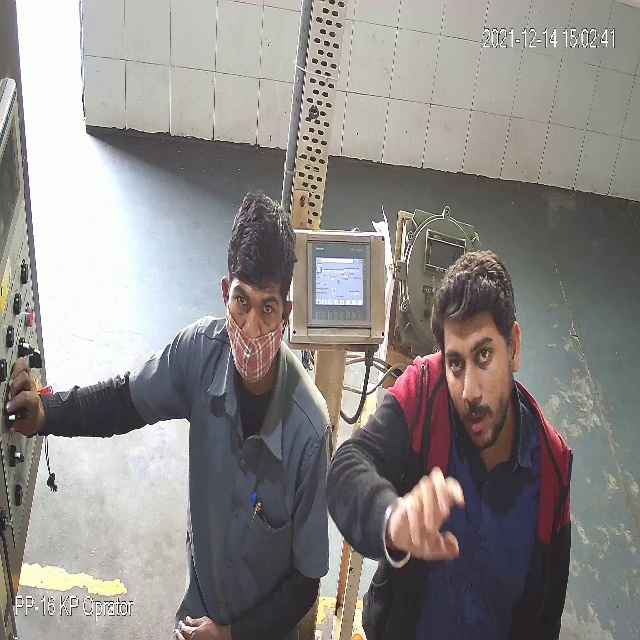Sin_gafas: (445, 336, 502, 379), (229, 288, 283, 325)
Sin_mascara: (448, 384, 507, 450)
